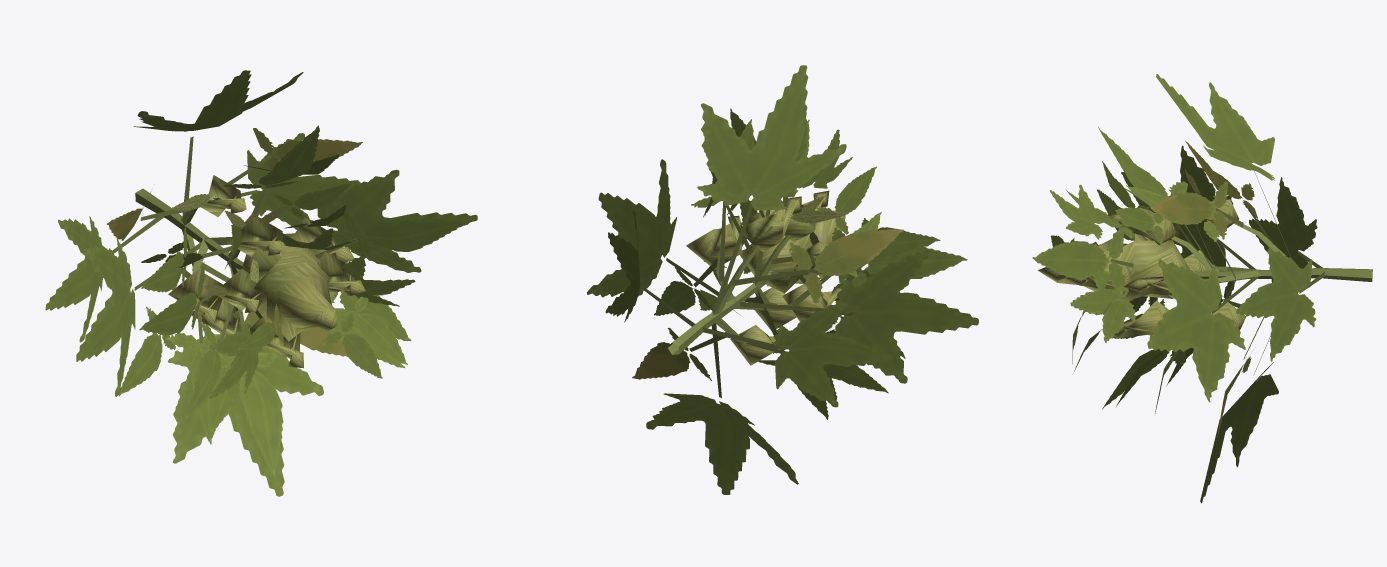
The model's file is p_auto_ripe_c1_cards.obj.
3 views of the same model, side by side, from view 1: azimuth 30°, elevation 25°; view 2: azimuth 150°, elevation 25°; view 3: azimuth 270°, elevation 25° (orthographic). The views are drawn at different scales.
Bounding box in the file's own units: 1.38 × 1.45 × 0.968.
1 material, 1 textured.
